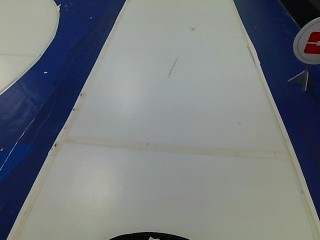company: (295, 21, 318, 62)
